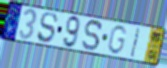3: (18, 9, 39, 42)
9: (62, 15, 81, 50)
G: (106, 24, 128, 56)
I: (129, 27, 141, 60)
S: (36, 12, 59, 45), (81, 18, 103, 52)
